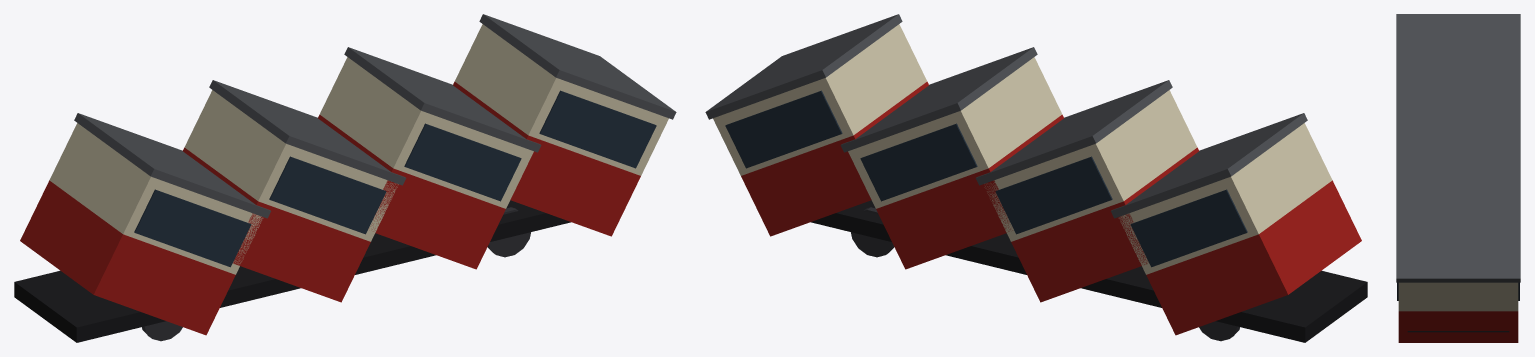
File: funicular_car.obj
3 views of the same model, side by side, from view 1: azimuth 30°, elevation 25°; view 2: azimuth 150°, elevation 25°; view 3: azimuth 270°, elevation 25° (orthographic). The views are drawn at different scales.
Bounding box in the file's own units: 12.07 × 3.69 × 2.7.
